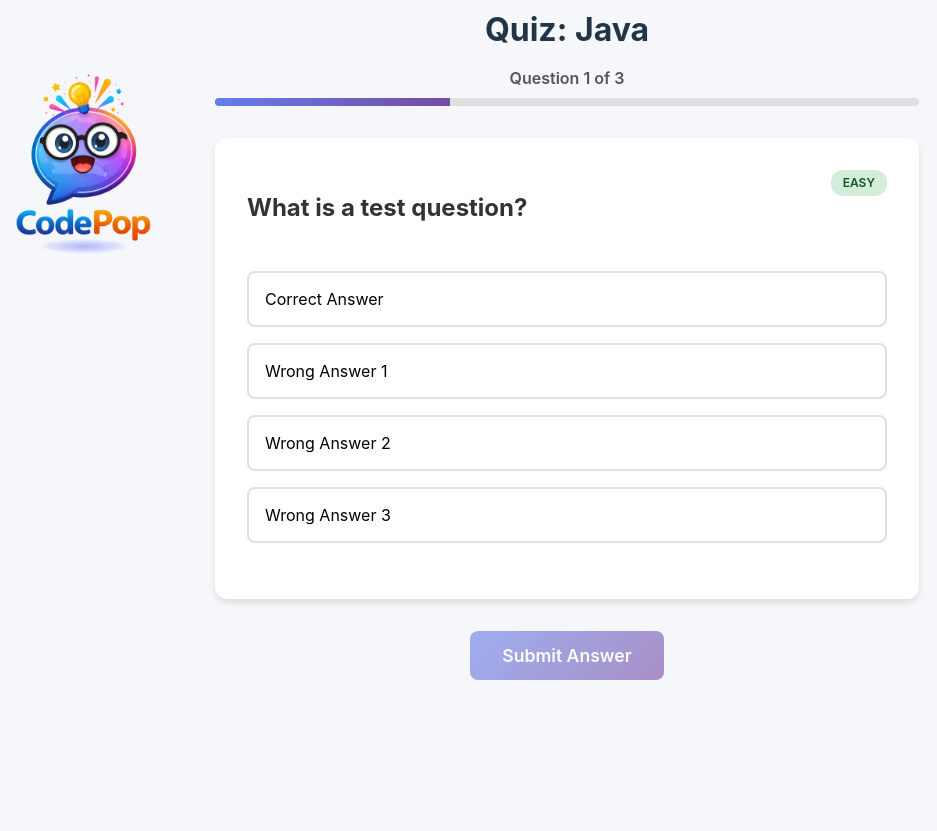
Test: QuizPage › shows feedback after submitting correct answer
The image size is (937, 831).
Expected: the text "What is a test question?" is shown, [247,193,528,222]
Click the button "Correct Answer".
click(324, 299)  # box [247,271,887,327]
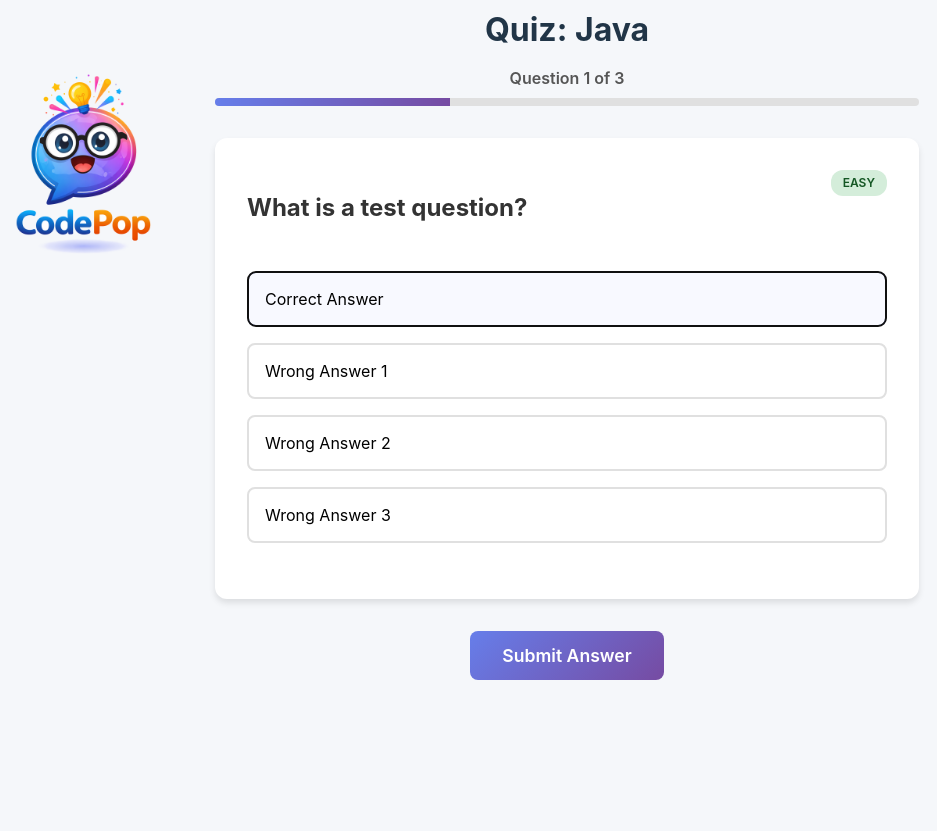
Click the button "Submit Answer".
click(567, 655)  # box [470,631,664,680]
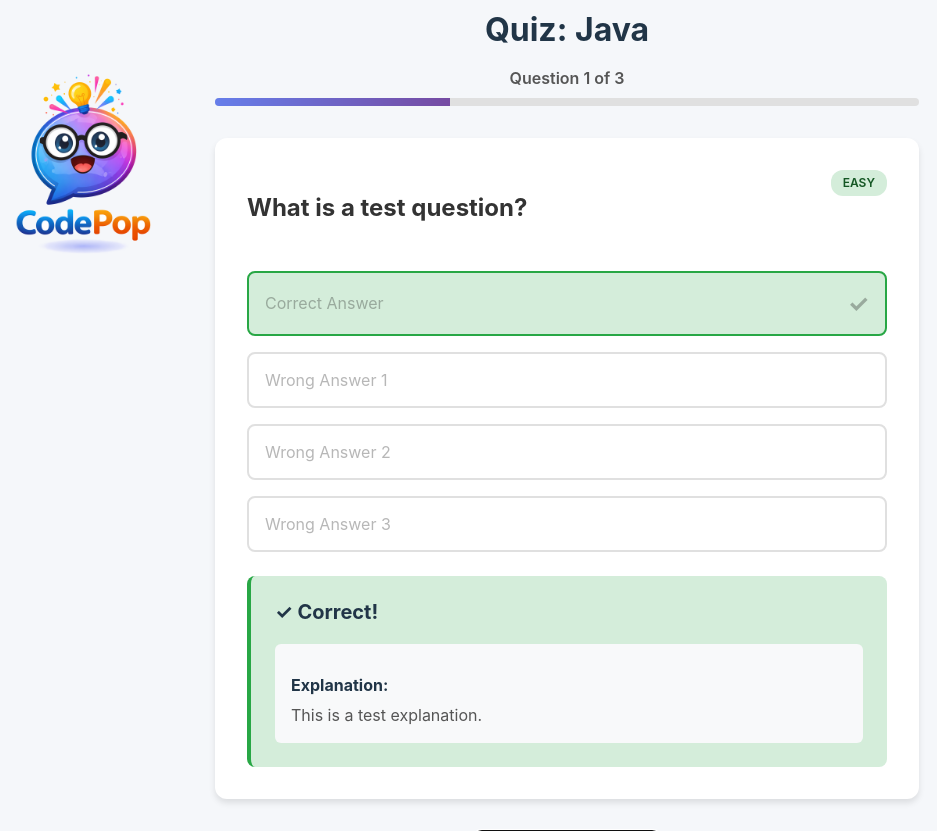
Now the heading "✓ Correct!" is shown, box [275,600,378,624]
Now the text "This is a test explanation." is shown, box [291,705,482,725]
